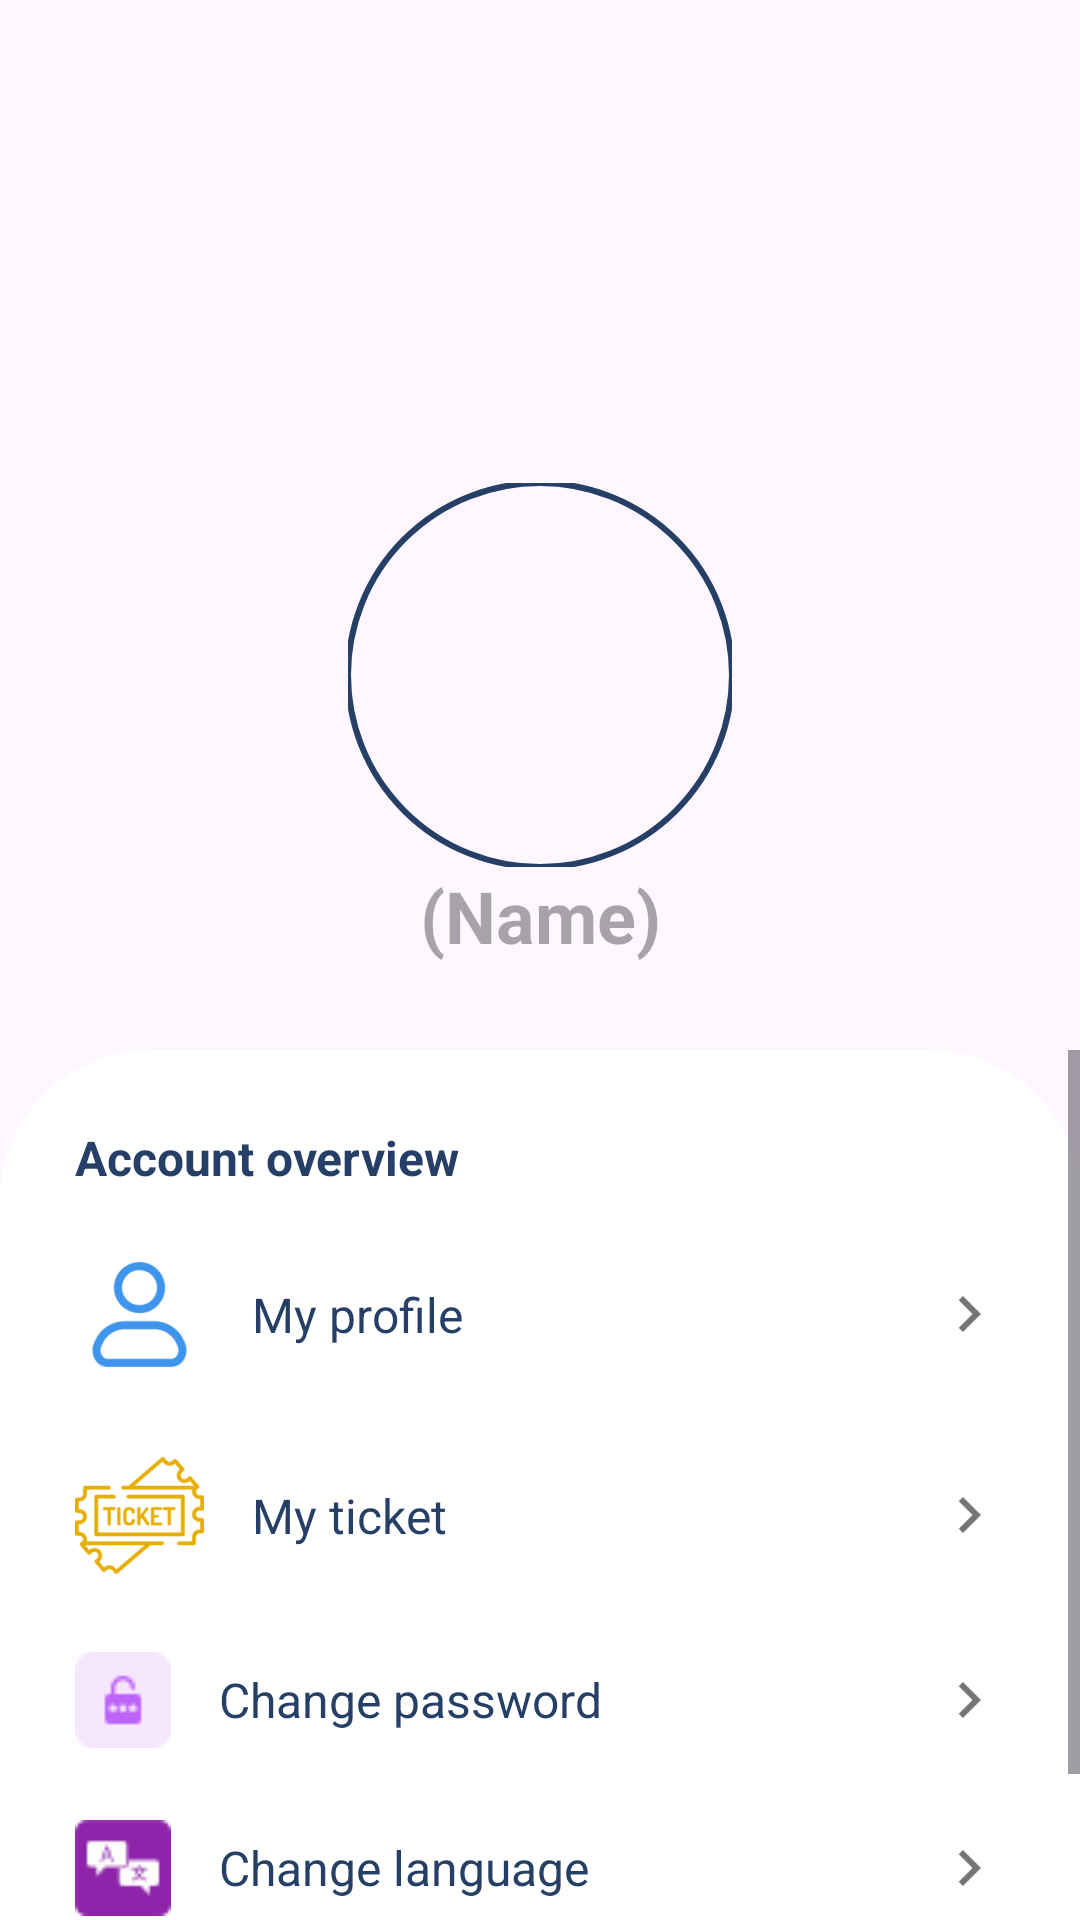

Point at icon controls on the screen. Image size 1080w x 1920h, points as (x=x, y=y).
navigate next: (x=970, y=1314), (x=970, y=1515), (x=970, y=1700), (x=970, y=1868)
translate: (x=123, y=1868)
user: (x=139, y=1314)
